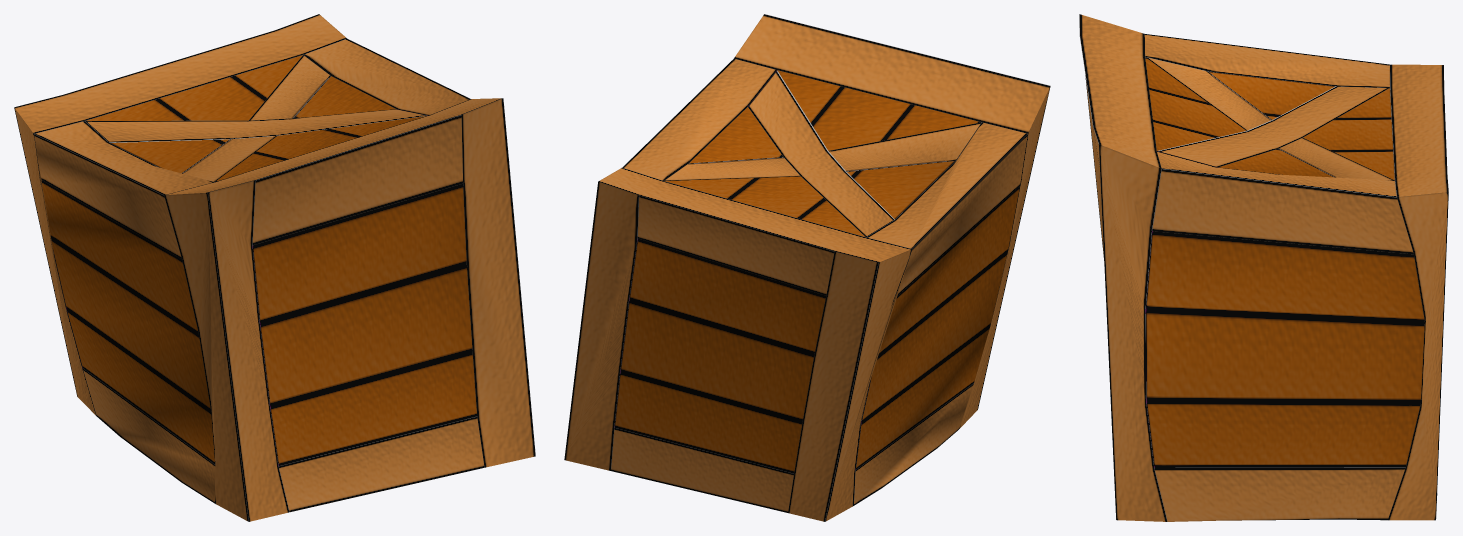
The model's file is WoodenBox.fbx.
3 views of the same model, side by side, from view 1: azimuth 30°, elevation 25°; view 2: azimuth 150°, elevation 25°; view 3: azimuth 270°, elevation 25° (orthographic). The views are drawn at different scales.
Visible parts, largest first — view 1: WoodenBoxModified; view 2: WoodenBoxModified; view 3: WoodenBoxModified.
Part boxes in pixels (x1,y1,x2,y2): WoodenBoxModified: [14, 14, 535, 521]; WoodenBoxModified: [564, 14, 1050, 521]; WoodenBoxModified: [1079, 14, 1448, 521].
Bounding box in the file's own units: 40.76 × 40.35 × 37.91.
